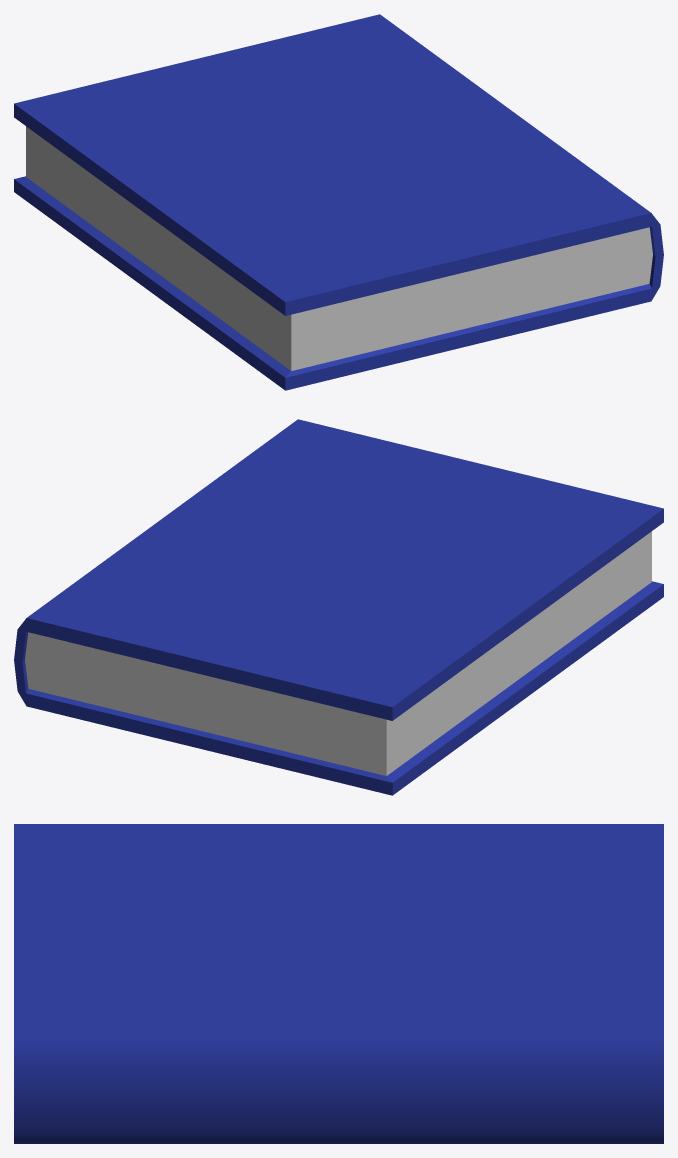
The model's file is MoveableCookBook.fbx.
3 views of the same model, one above another, from view 1: azimuth 30°, elevation 25°; view 2: azimuth 150°, elevation 25°; view 3: azimuth 270°, elevation 25° (orthographic). The views are drawn at different scales.
Visible parts, largest first — view 1: pCube6; view 2: pCube6; view 3: pCube6.
Boxes of the visible parts, left/top/right/bottom form: pCube6: left=14, top=14, right=663, bottom=390; pCube6: left=14, top=419, right=663, bottom=795; pCube6: left=14, top=824, right=663, bottom=1143.
Bounding box in the file's own units: 14.97 × 3.34 × 18.59.
